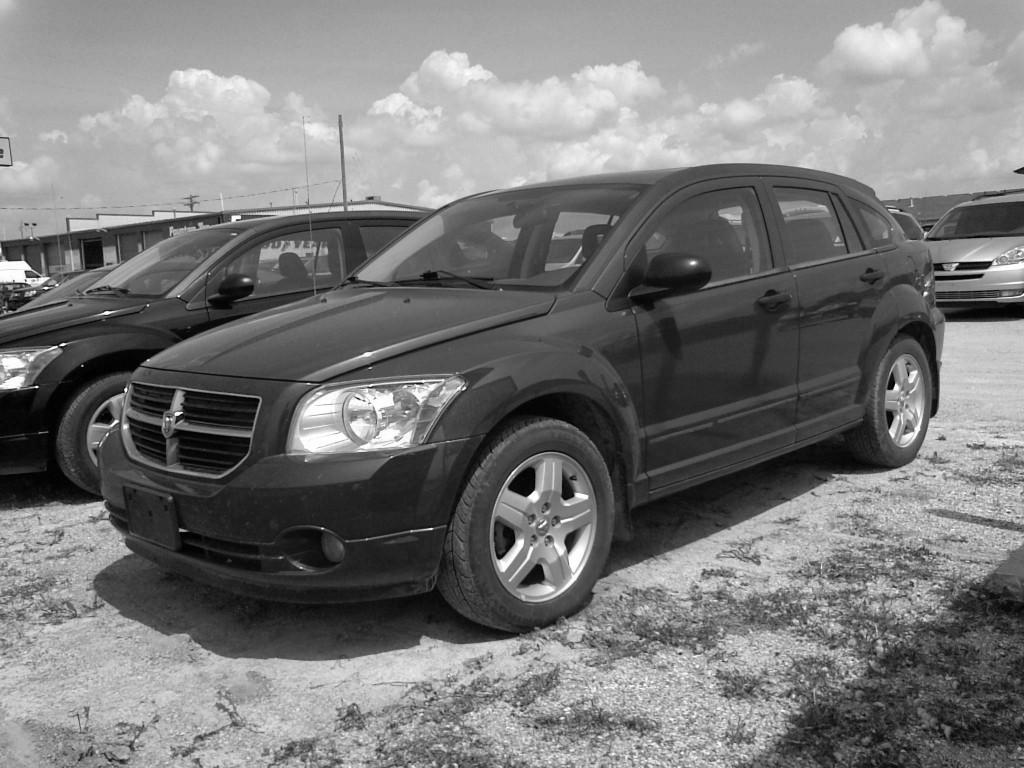car: (101, 164, 946, 633)
